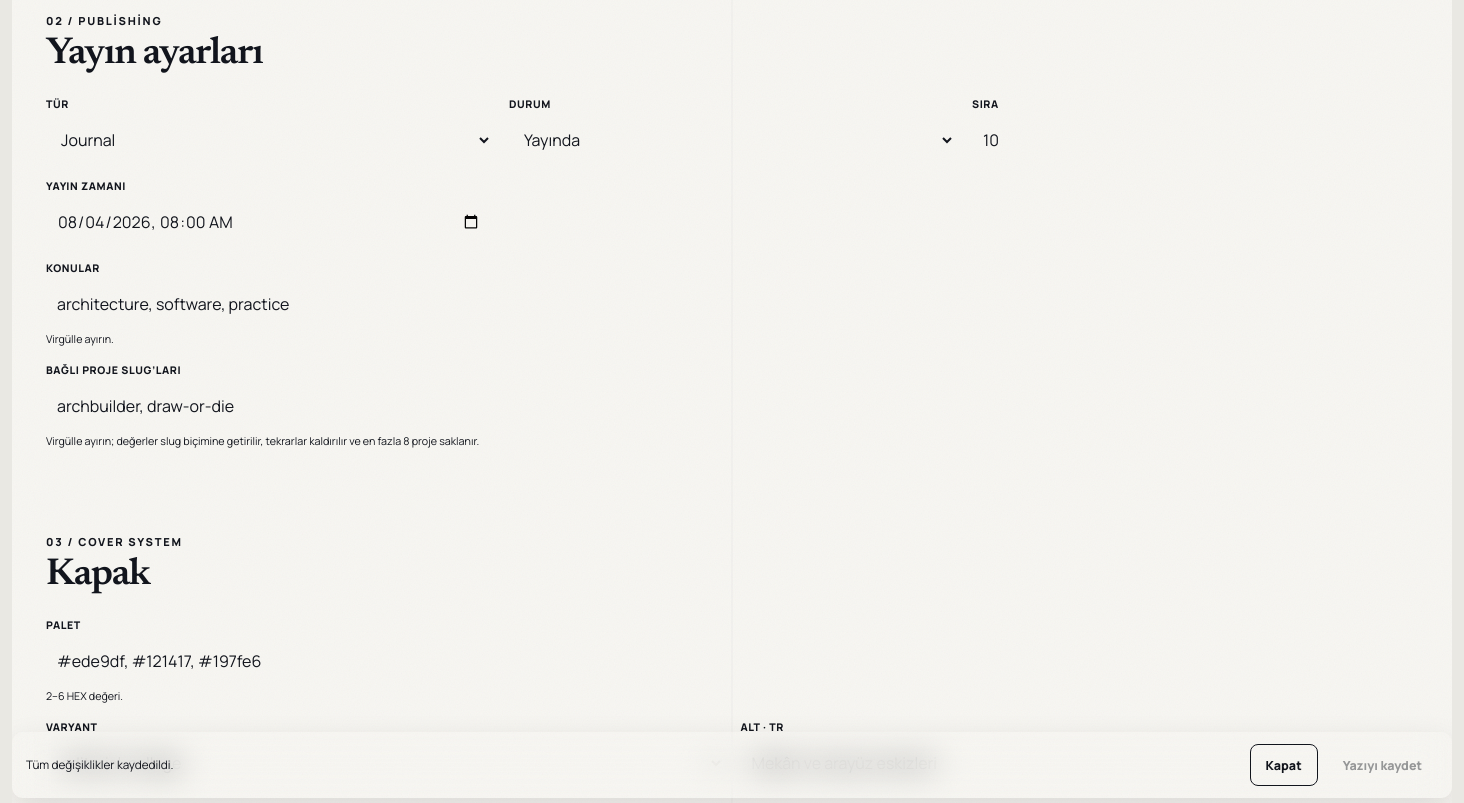
Test: JournalEditor › rejects more than eight normalized linked projects before repository access
This screenshot has width=1464, height=803.
(page scrolled)
Replace the text in the field labelled "Bağlı proje slug’ları" with "one, two, three, four, five, six, seven, eight, nine" at (732, 406), box [46,384,1418,427]
(page scrolled)
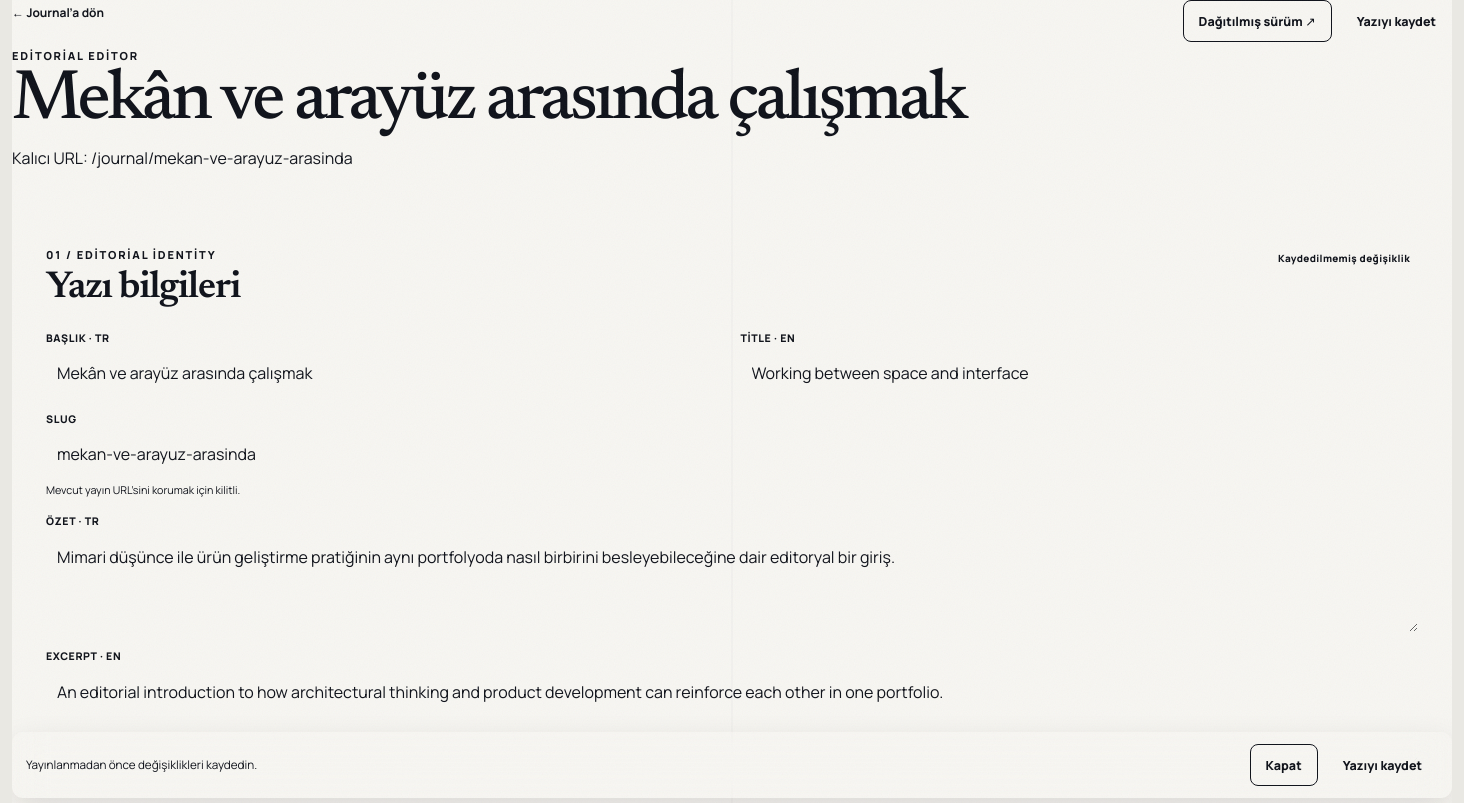
Click the button "Yazıyı kaydet" next to "Dağıtılmış sürüm ↗".
click(1396, 21)  # box [1341,0,1452,42]
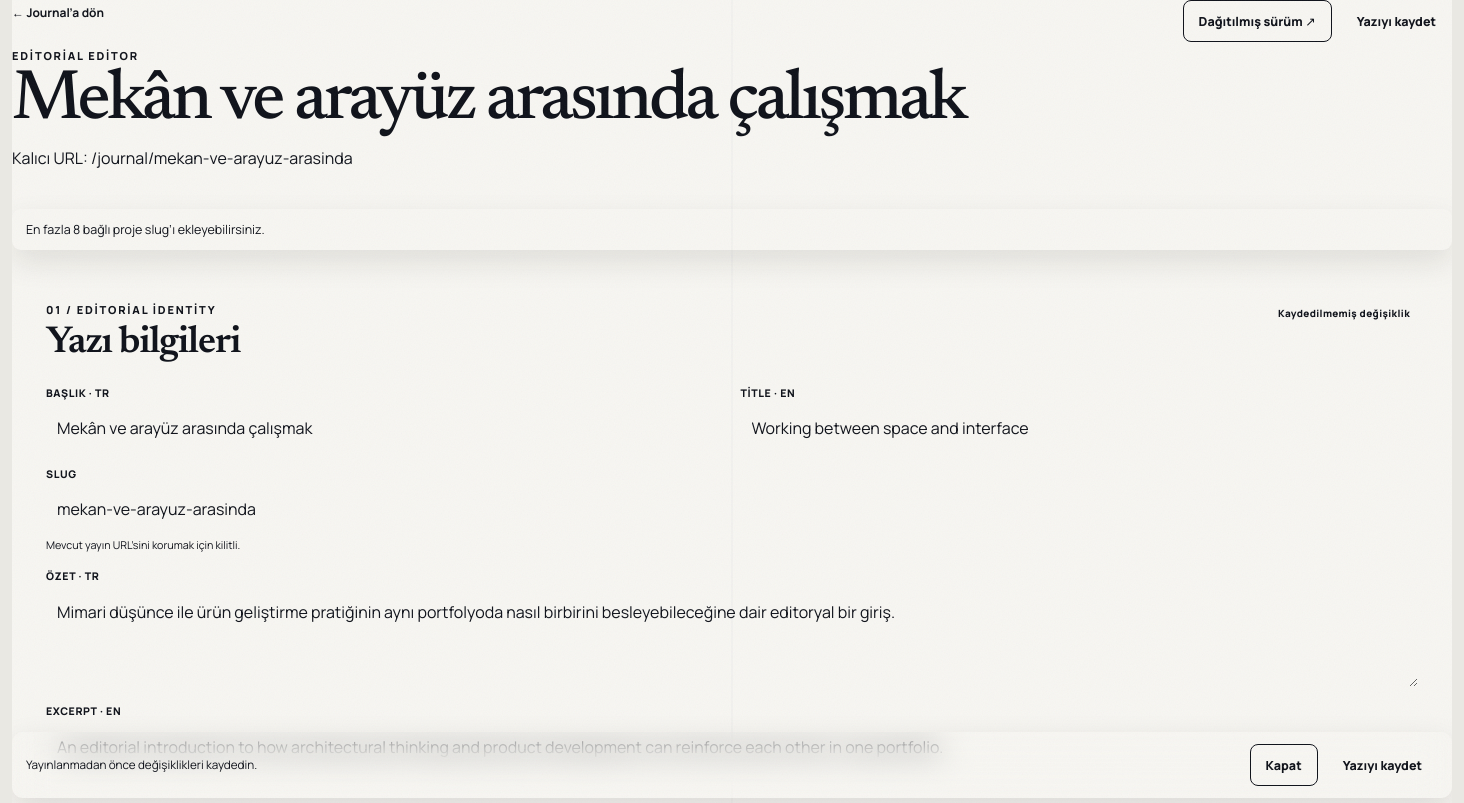
Check: the message shows "En fazla 8 bağlı proje slug’ı", box [26,221,265,238]
